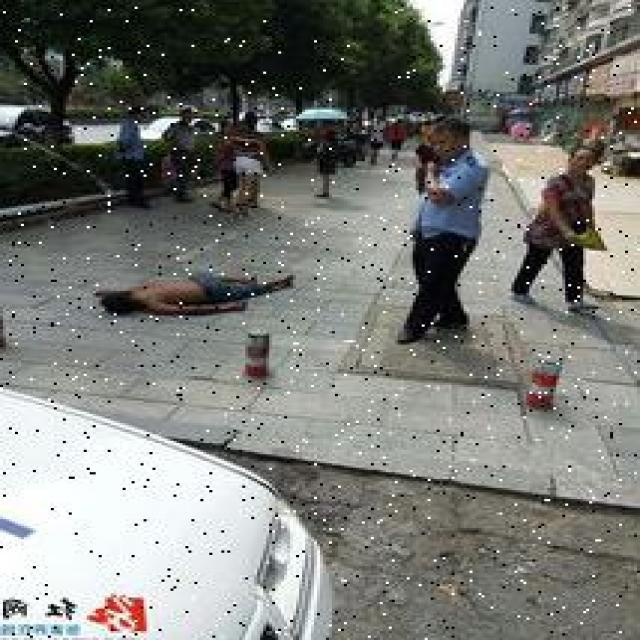fall: (93, 260, 293, 318)
